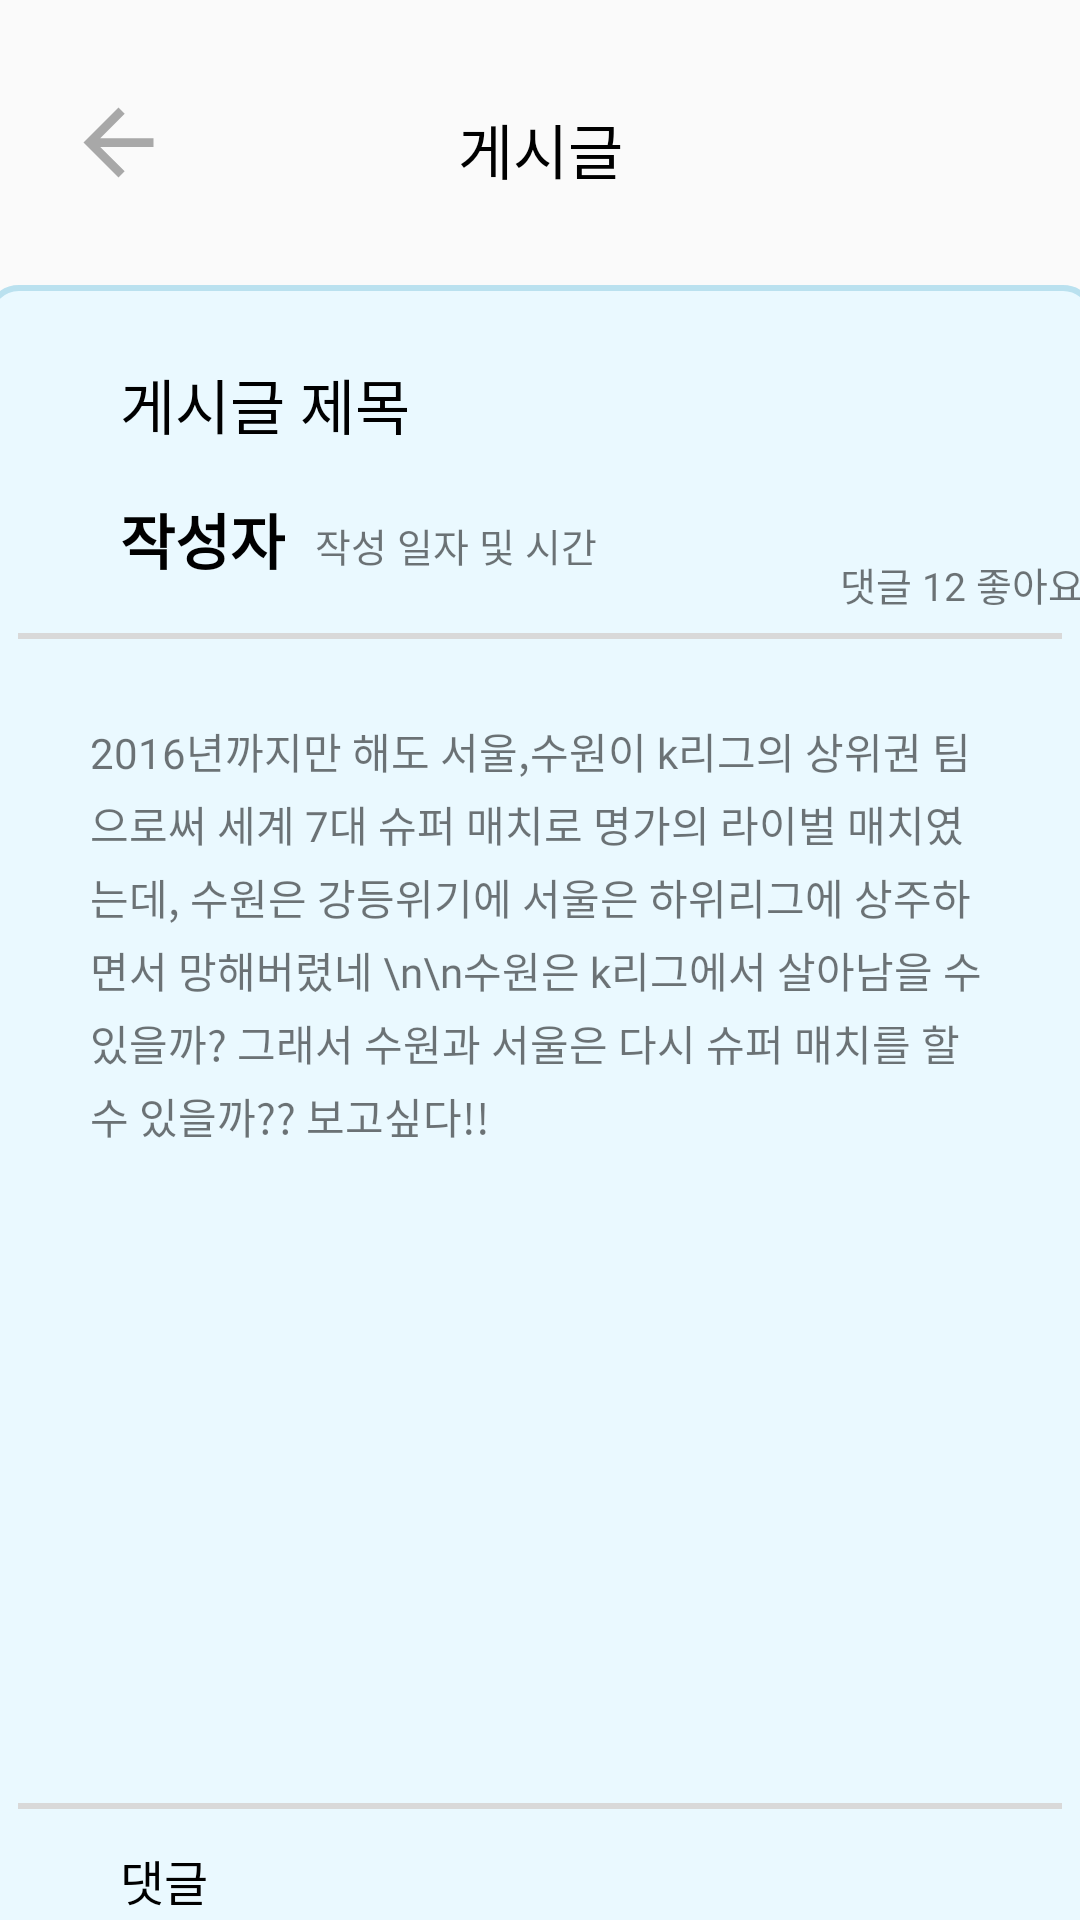

Icon bounding boxes for this 1080 × 1920 phone screenshot, format {"left": x1, "top": y1, "right": x2, "bottom": y2}:
arrow back: {"left": 84, "top": 108, "right": 154, "bottom": 177}
